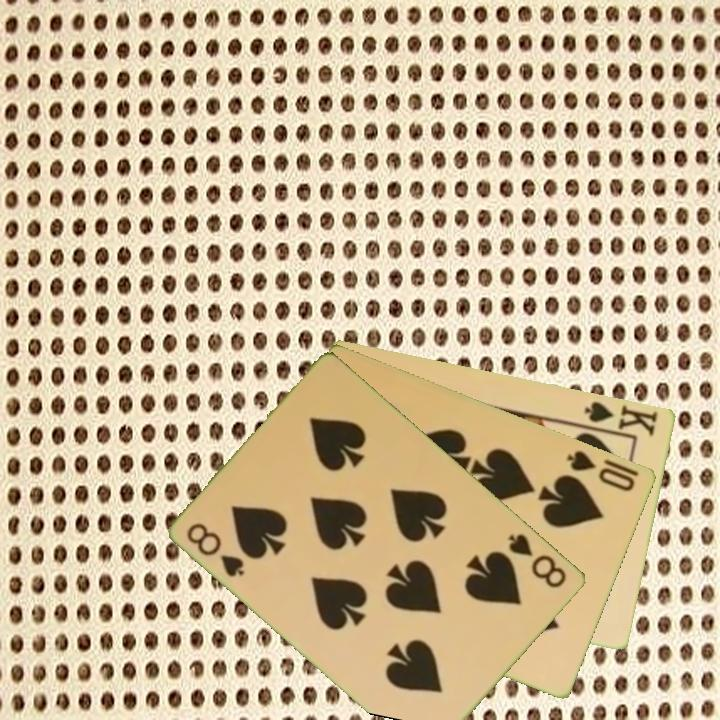10s: (563, 446, 639, 494)
8s: (505, 530, 570, 591), (183, 519, 248, 580)
Ks: (581, 397, 661, 438)
